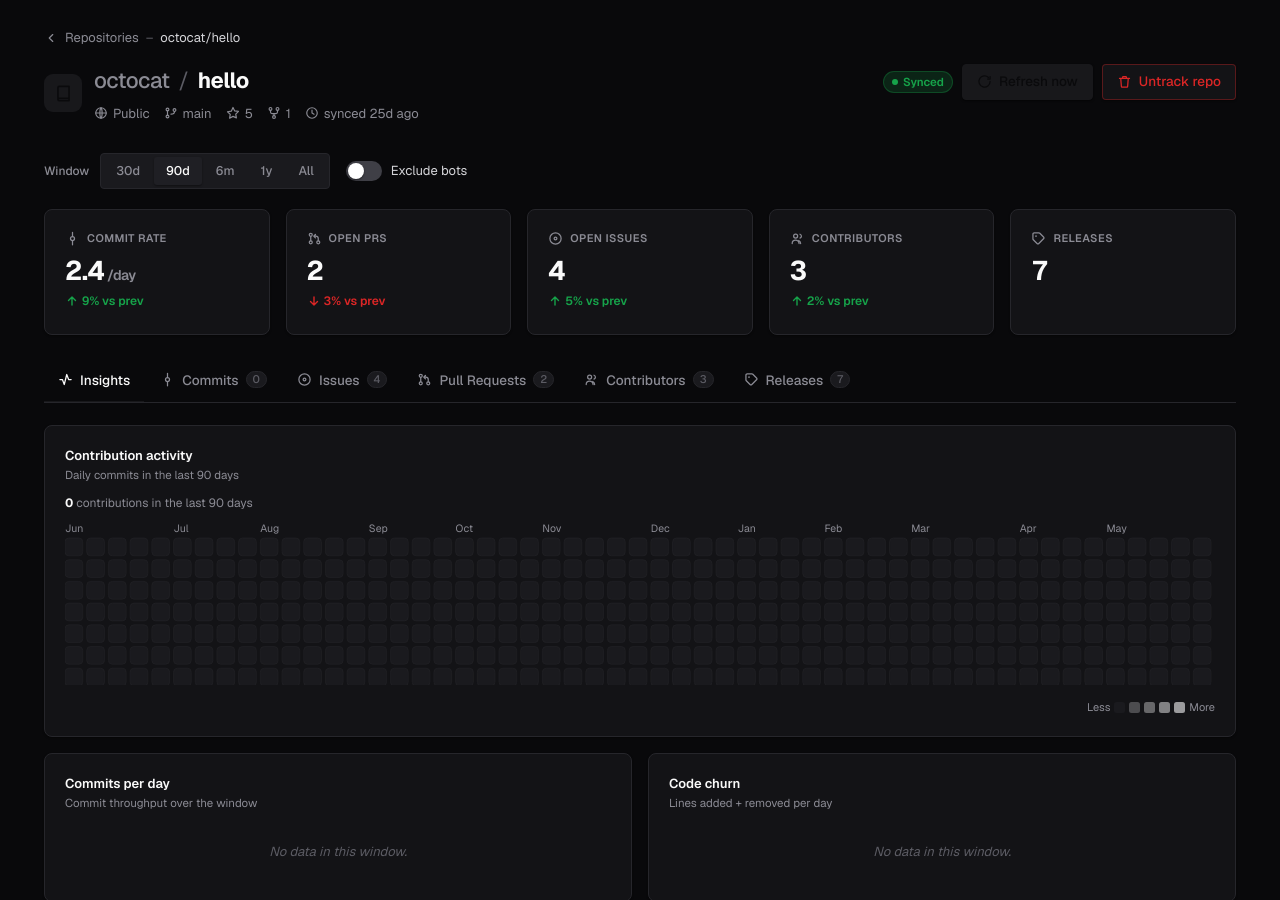
Scenario: RepoDetail page › can switch tabs
Click the button "Commits 0": (214, 381) [146, 358, 281, 403]
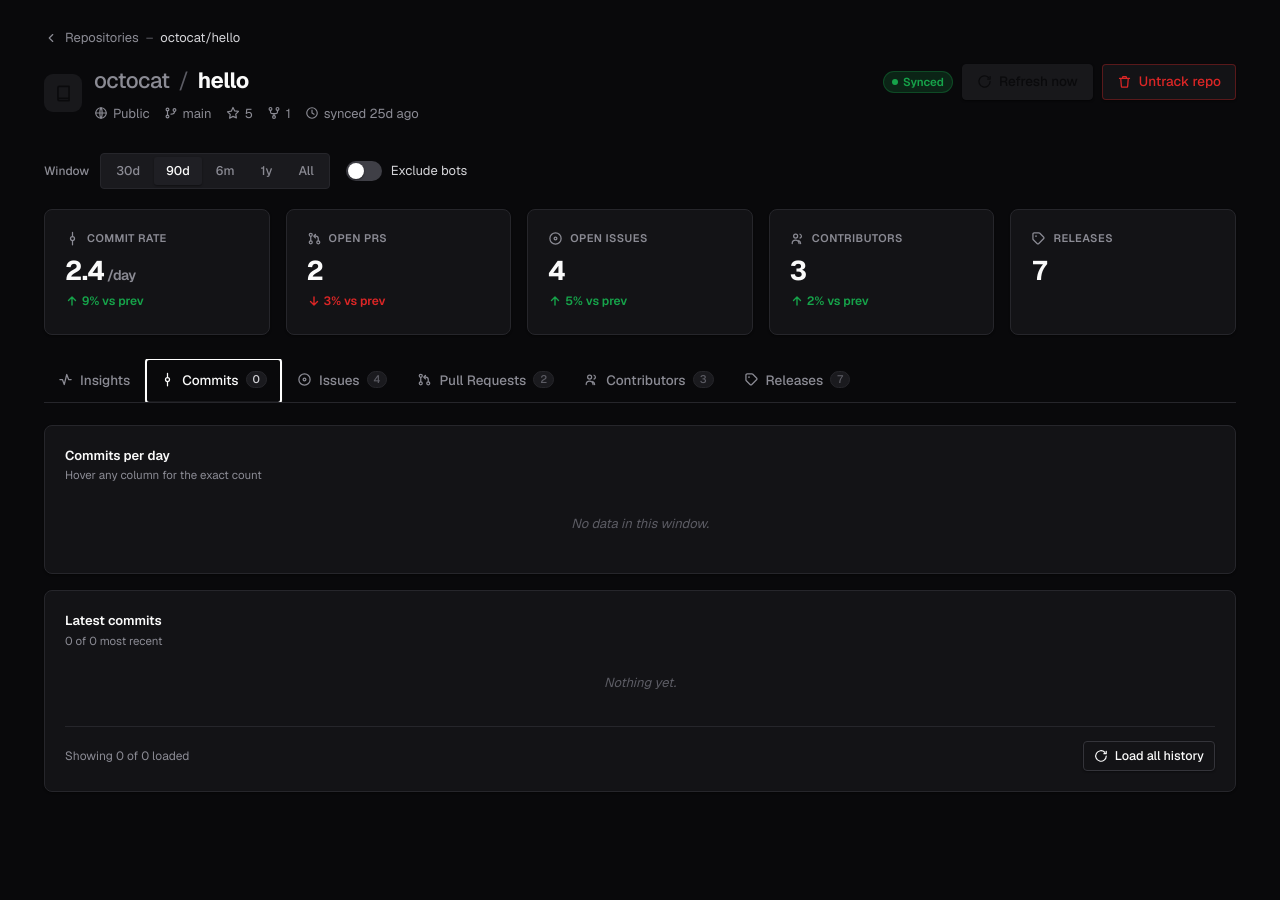
Result: the text "Latest commits" is shown at [65, 611, 163, 630]
